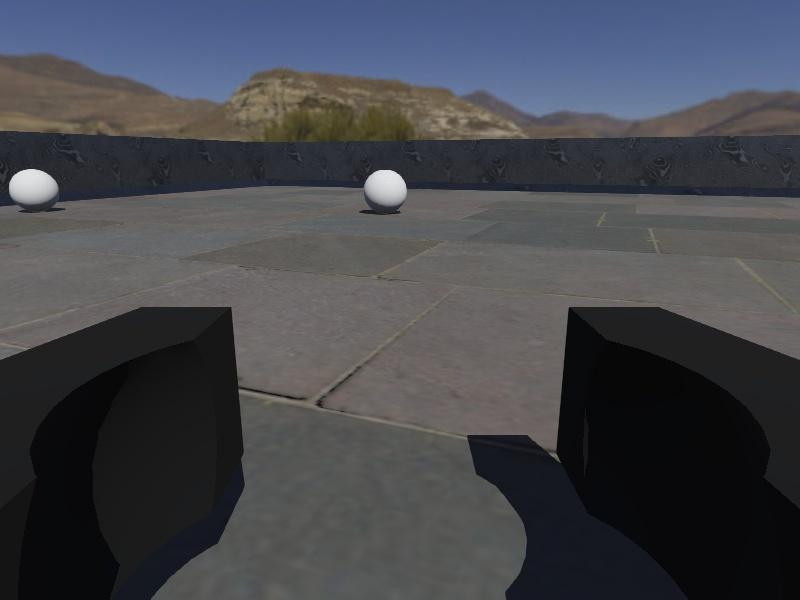white ball: (8, 167, 61, 212), (362, 168, 408, 215)
